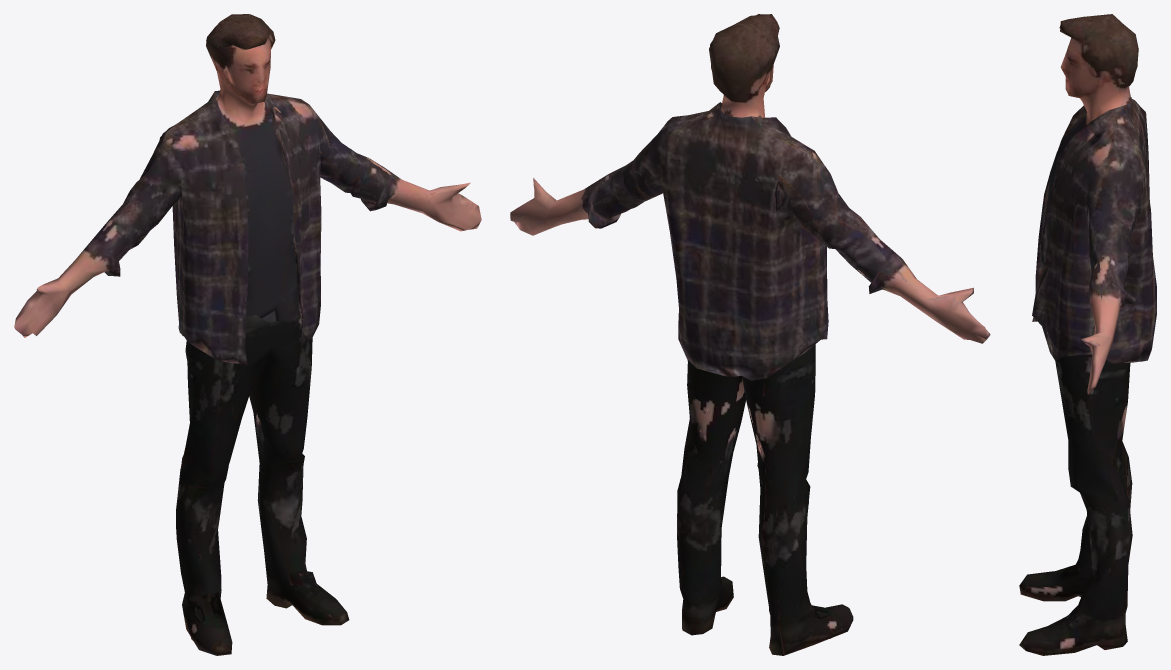
File: fan-m-shoulders-s1.lo.glb
3 renders of one model, left to right at view 1: azimuth 30°, elevation 25°; view 2: azimuth 150°, elevation 25°; view 3: azimuth 270°, elevation 25°, orthographic. The views are drawn at different scales.
Parts seen in each view (by area): view 1: geometry_0; view 2: geometry_0; view 3: geometry_0.
Boxes of the visible parts, bbox=[...] form: geometry_0: bbox=[14, 14, 481, 655]; geometry_0: bbox=[510, 14, 990, 655]; geometry_0: bbox=[1019, 14, 1156, 655].
Size of the model in its own units: 0.8163 by 0.9985 by 0.2066.
Materials: 1 (1 with a texture image).
